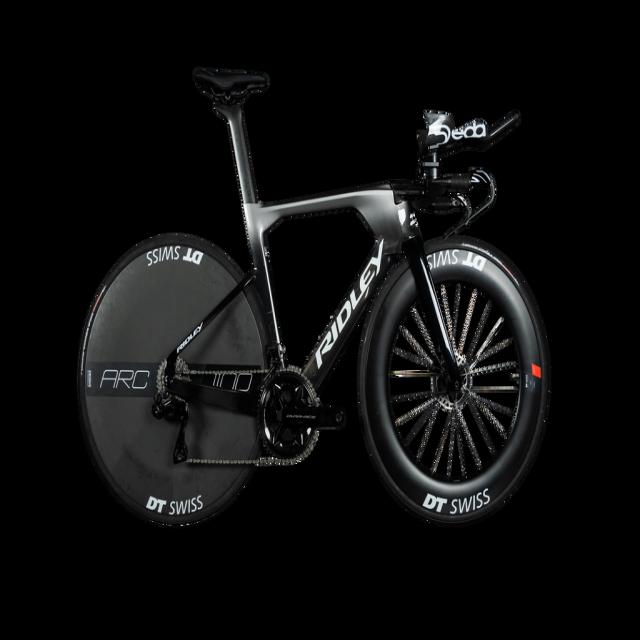TT-bike: (78, 68, 550, 525)
